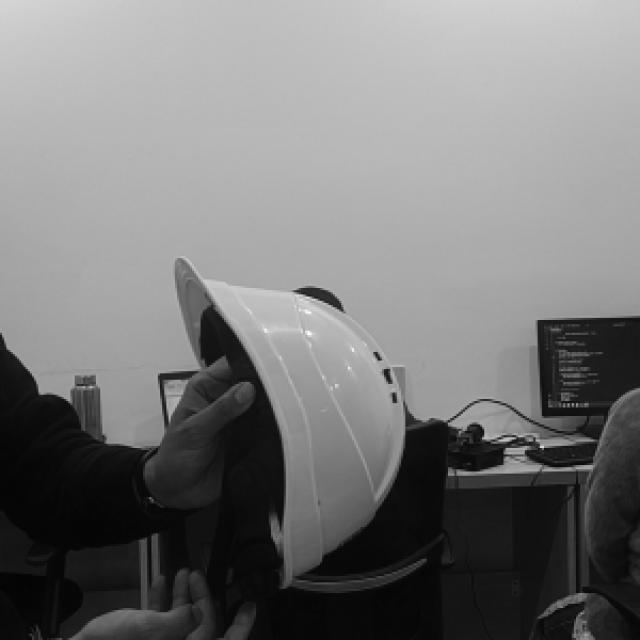safety_helmet: (172, 254, 406, 584)
